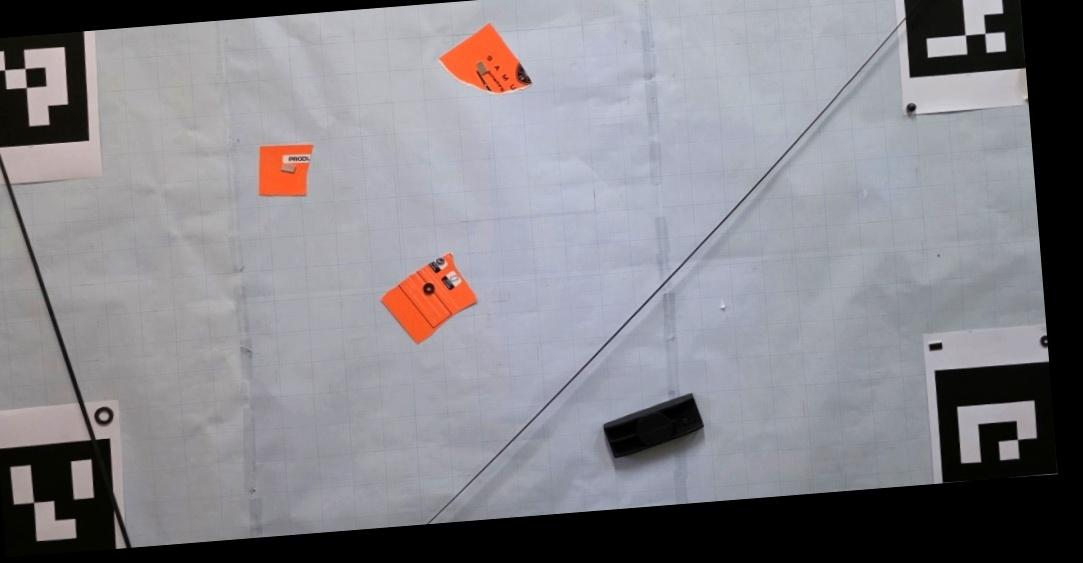obstacle: (380, 252, 477, 344), (600, 393, 705, 460), (439, 22, 532, 96), (257, 142, 314, 197)
